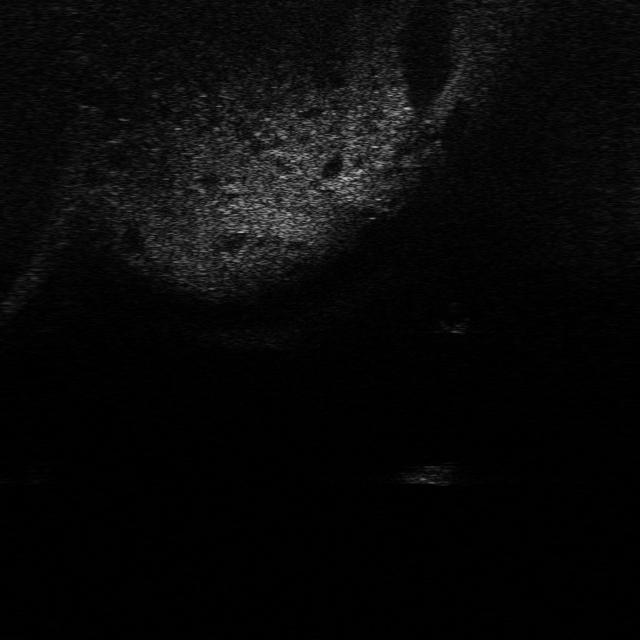ball: (434, 301, 474, 334)
cube: (399, 462, 462, 488)
